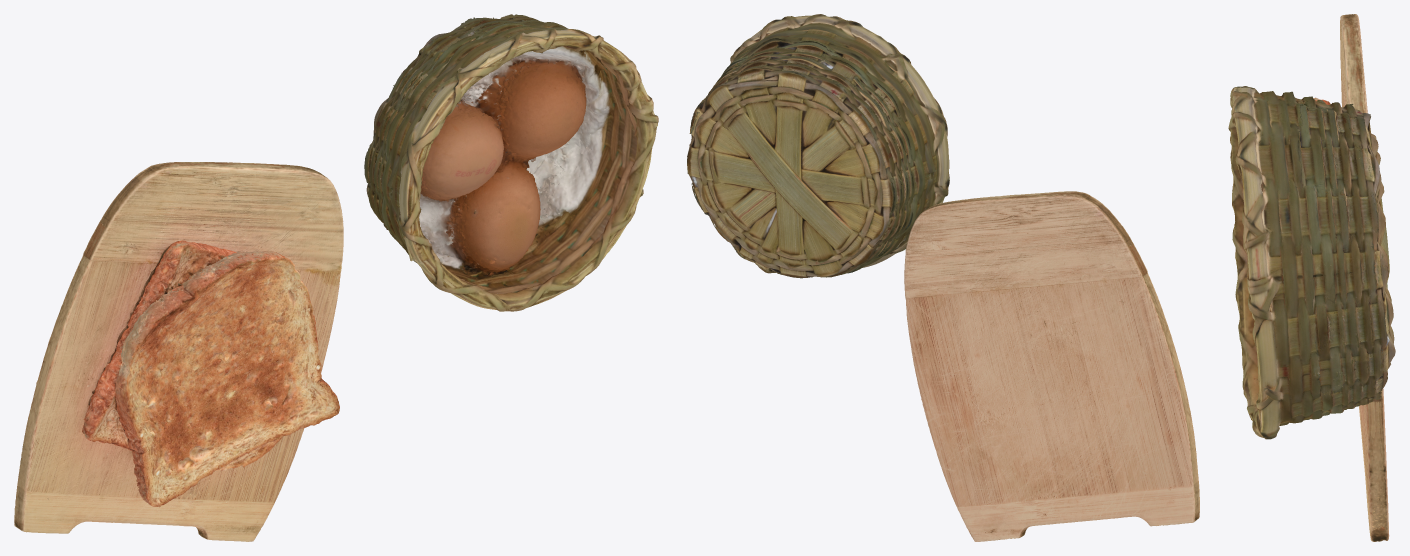
File: boiled_egg.glb
The picture shows the model from 3 angles, left to right: view 1: azimuth 30°, elevation 25°; view 2: azimuth 150°, elevation 25°; view 3: azimuth 270°, elevation 25°; orthographic projection. The views are drawn at different scales.
Parts seen in each view (by area): view 1: Object_4, Object_6, Object_5, Object_7; view 2: Object_4, Object_6, Object_7, Object_5; view 3: Object_6, Object_7, Object_4, Object_5, Object_8.
Part boxes in pixels (left/top/right/bottom): Object_4: left=14, top=163, right=340, bottom=541; Object_6: left=366, top=14, right=658, bottom=311; Object_5: left=23, top=162, right=343, bottom=481; Object_7: left=364, top=14, right=632, bottom=311; Object_4: left=904, top=192, right=1199, bottom=541; Object_6: left=687, top=14, right=949, bottom=278; Object_7: left=689, top=18, right=949, bottom=277; Object_5: left=904, top=191, right=1190, bottom=484; Object_6: left=1230, top=87, right=1395, bottom=439; Object_7: left=1228, top=86, right=1389, bottom=409; Object_4: left=1328, top=14, right=1389, bottom=541; Object_5: left=1313, top=14, right=1387, bottom=505; Object_8: left=1245, top=224, right=1394, bottom=411.
Size of the model in its own units: 0.4552 by 0.3616 by 0.0967.
2 materials, 2 textured.
